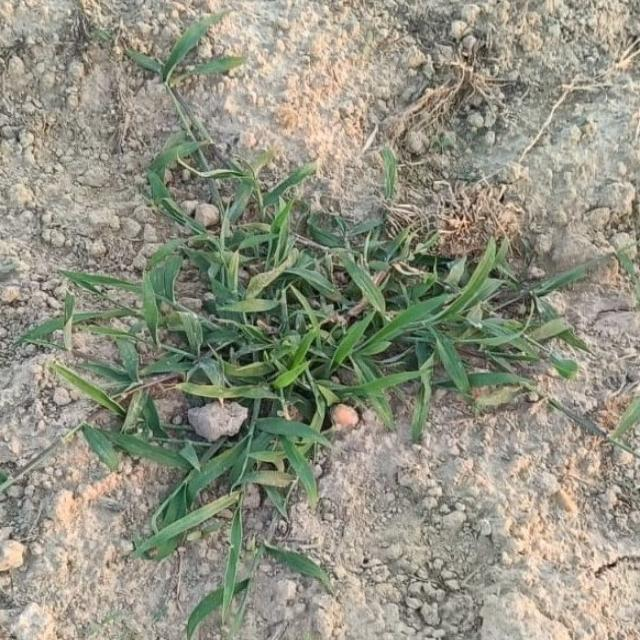weed: (21, 12, 592, 640)
